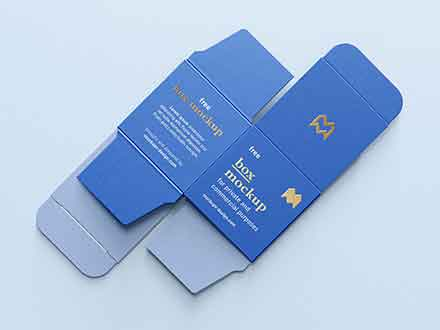Medicine: (35, 25, 411, 302)
